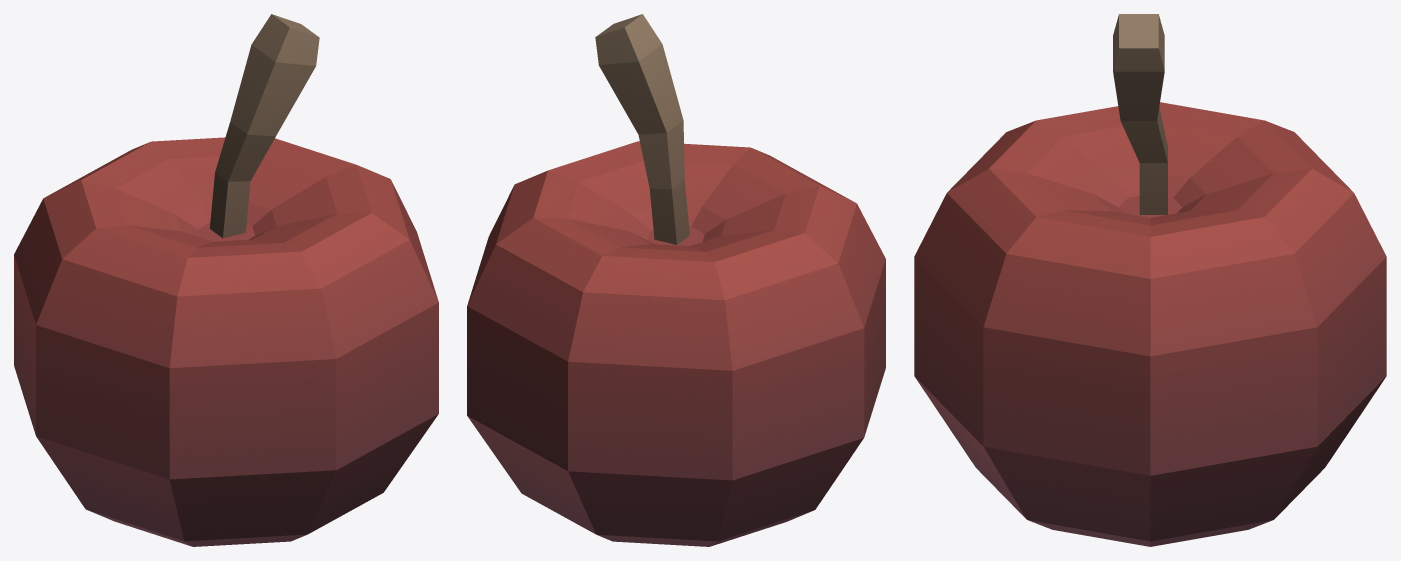
Rendered from ItemPropsApple.fbx.
3 views of the same model, side by side, from view 1: azimuth 30°, elevation 25°; view 2: azimuth 150°, elevation 25°; view 3: azimuth 270°, elevation 25° (orthographic). The views are drawn at different scales.
Parts seen in each view (by area): view 1: Cylinder.004; view 2: Cylinder.004; view 3: Cylinder.004.
Boxes of the visible parts, bbox=[...] form: Cylinder.004: bbox=[14, 14, 438, 546]; Cylinder.004: bbox=[467, 14, 885, 546]; Cylinder.004: bbox=[914, 14, 1386, 546].
Size of the model in its own units: 22.62 by 26.42 by 22.62.
